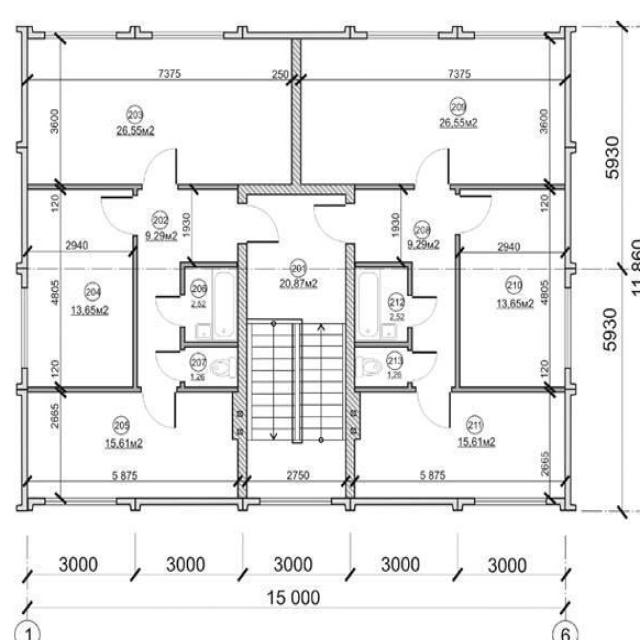Bathrooms: (187, 269, 238, 340), (355, 269, 406, 340), (356, 348, 406, 386), (186, 348, 236, 386)
Corridors: (356, 190, 455, 388), (139, 191, 236, 386), (248, 196, 345, 269)
Doors: (234, 204, 282, 243), (454, 194, 495, 239), (415, 144, 452, 193), (97, 194, 139, 236), (312, 203, 357, 241), (415, 387, 452, 431), (144, 145, 178, 191), (142, 391, 178, 432), (406, 295, 442, 329), (405, 350, 440, 384), (153, 349, 186, 384), (154, 295, 186, 326)
LBwalls: (237, 40, 356, 205), (544, 25, 578, 287), (14, 24, 47, 287), (230, 242, 248, 498), (546, 368, 577, 512), (15, 368, 46, 512), (345, 242, 361, 498), (117, 496, 261, 512), (223, 24, 368, 39), (332, 498, 475, 513), (438, 24, 475, 39), (116, 24, 152, 38)
Offices: (302, 39, 564, 183), (29, 40, 291, 182), (357, 393, 565, 499), (28, 394, 237, 498), (28, 191, 132, 386), (461, 190, 564, 386)
Stairs: (249, 271, 345, 497)
Walls: (28, 234, 143, 394), (451, 233, 565, 392), (355, 260, 413, 296), (179, 261, 238, 295), (450, 183, 566, 197), (28, 183, 144, 197), (179, 325, 238, 351), (355, 326, 413, 352), (354, 379, 418, 392), (176, 381, 239, 392), (176, 183, 238, 191), (356, 183, 415, 191)
Windows: (475, 498, 547, 506), (368, 32, 438, 40), (21, 288, 28, 367), (45, 498, 117, 505), (45, 32, 116, 39), (152, 32, 223, 39), (475, 32, 546, 39), (260, 498, 332, 504), (565, 288, 570, 369)
